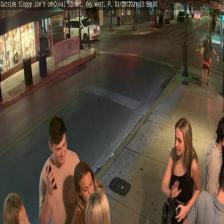person: (38, 116, 80, 223), (161, 117, 202, 223), (72, 162, 101, 224)
